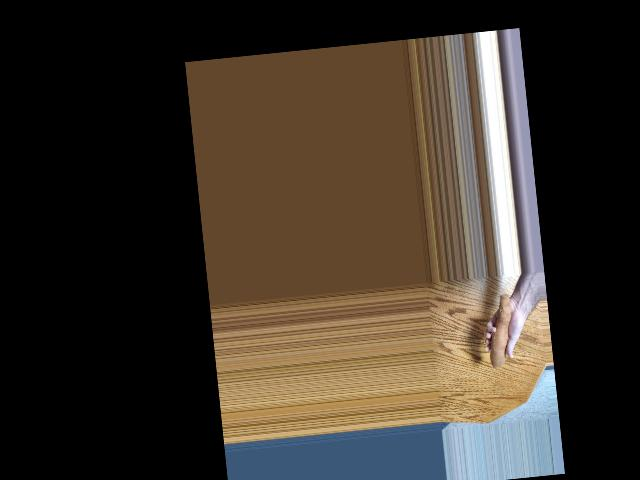sweet_potato: (483, 295, 518, 370)
